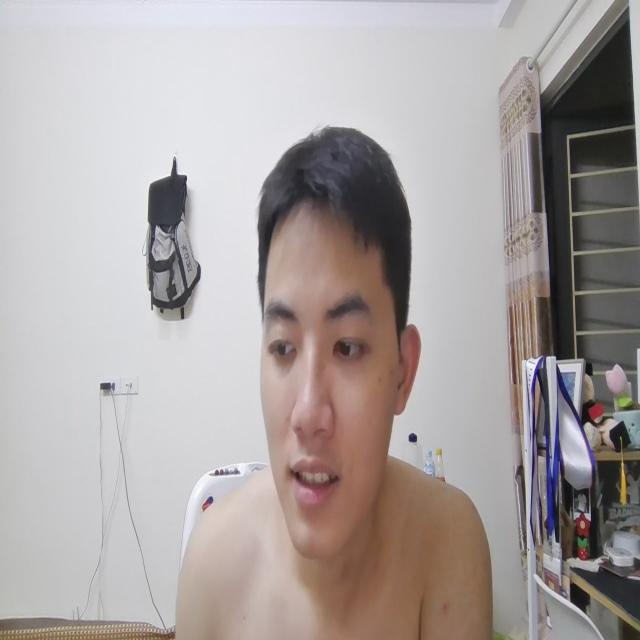student: (171, 113, 492, 640)
